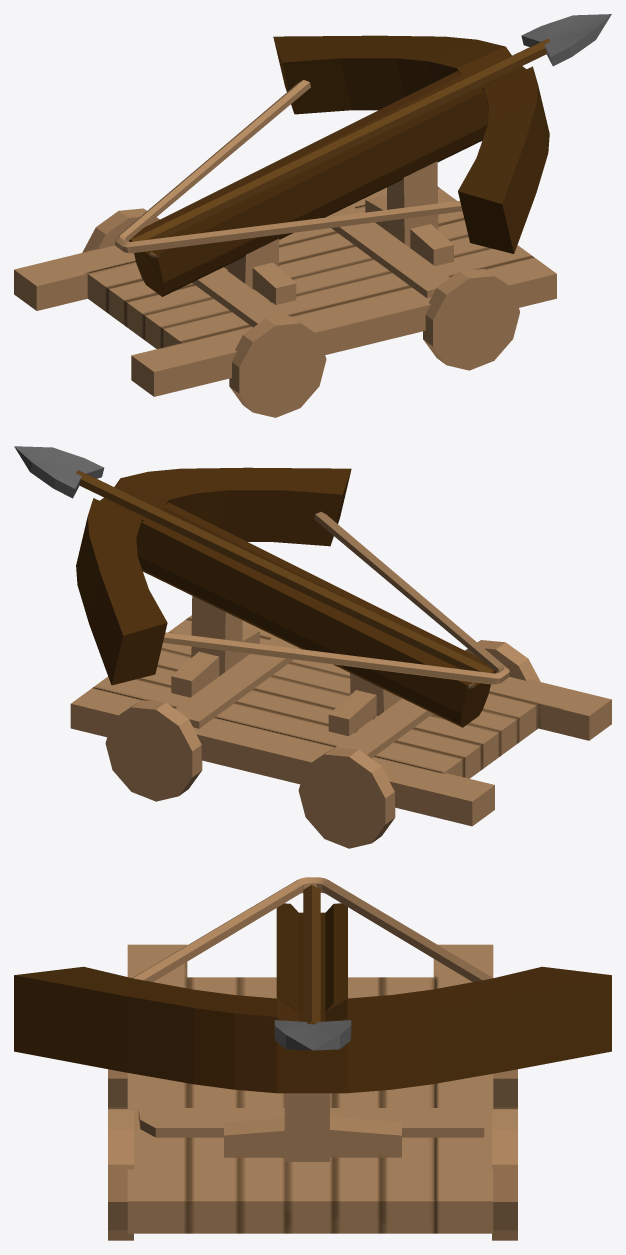
The model's file is Ballista 1.fbx.
3 views of the same model, one above another, from view 1: azimuth 30°, elevation 25°; view 2: azimuth 150°, elevation 25°; view 3: azimuth 270°, elevation 25° (orthographic). The views are drawn at different scales.
Visible parts, largest first — view 1: Ballista_1; view 2: Ballista_1; view 3: Ballista_1.
Part boxes in pixels (x1,y1,x2,y2): Ballista_1: [14, 14, 611, 417]; Ballista_1: [14, 446, 611, 848]; Ballista_1: [14, 877, 611, 1240].
Size of the model in its own units: 682 by 302 by 512.
Materials: 1 (1 with a texture image).
